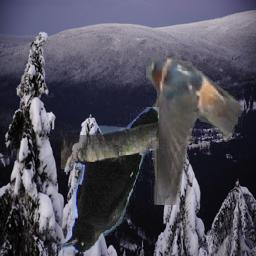Crow: (61, 108, 159, 253)
Swallow: (147, 51, 244, 206)
